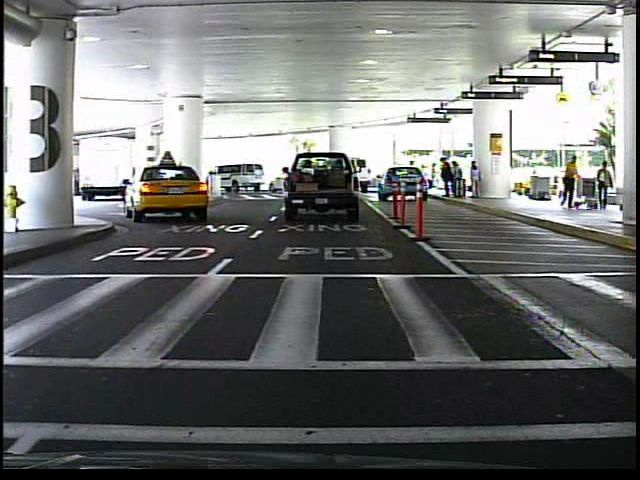person: (559, 154, 583, 214), (594, 158, 616, 213), (405, 158, 421, 193)
